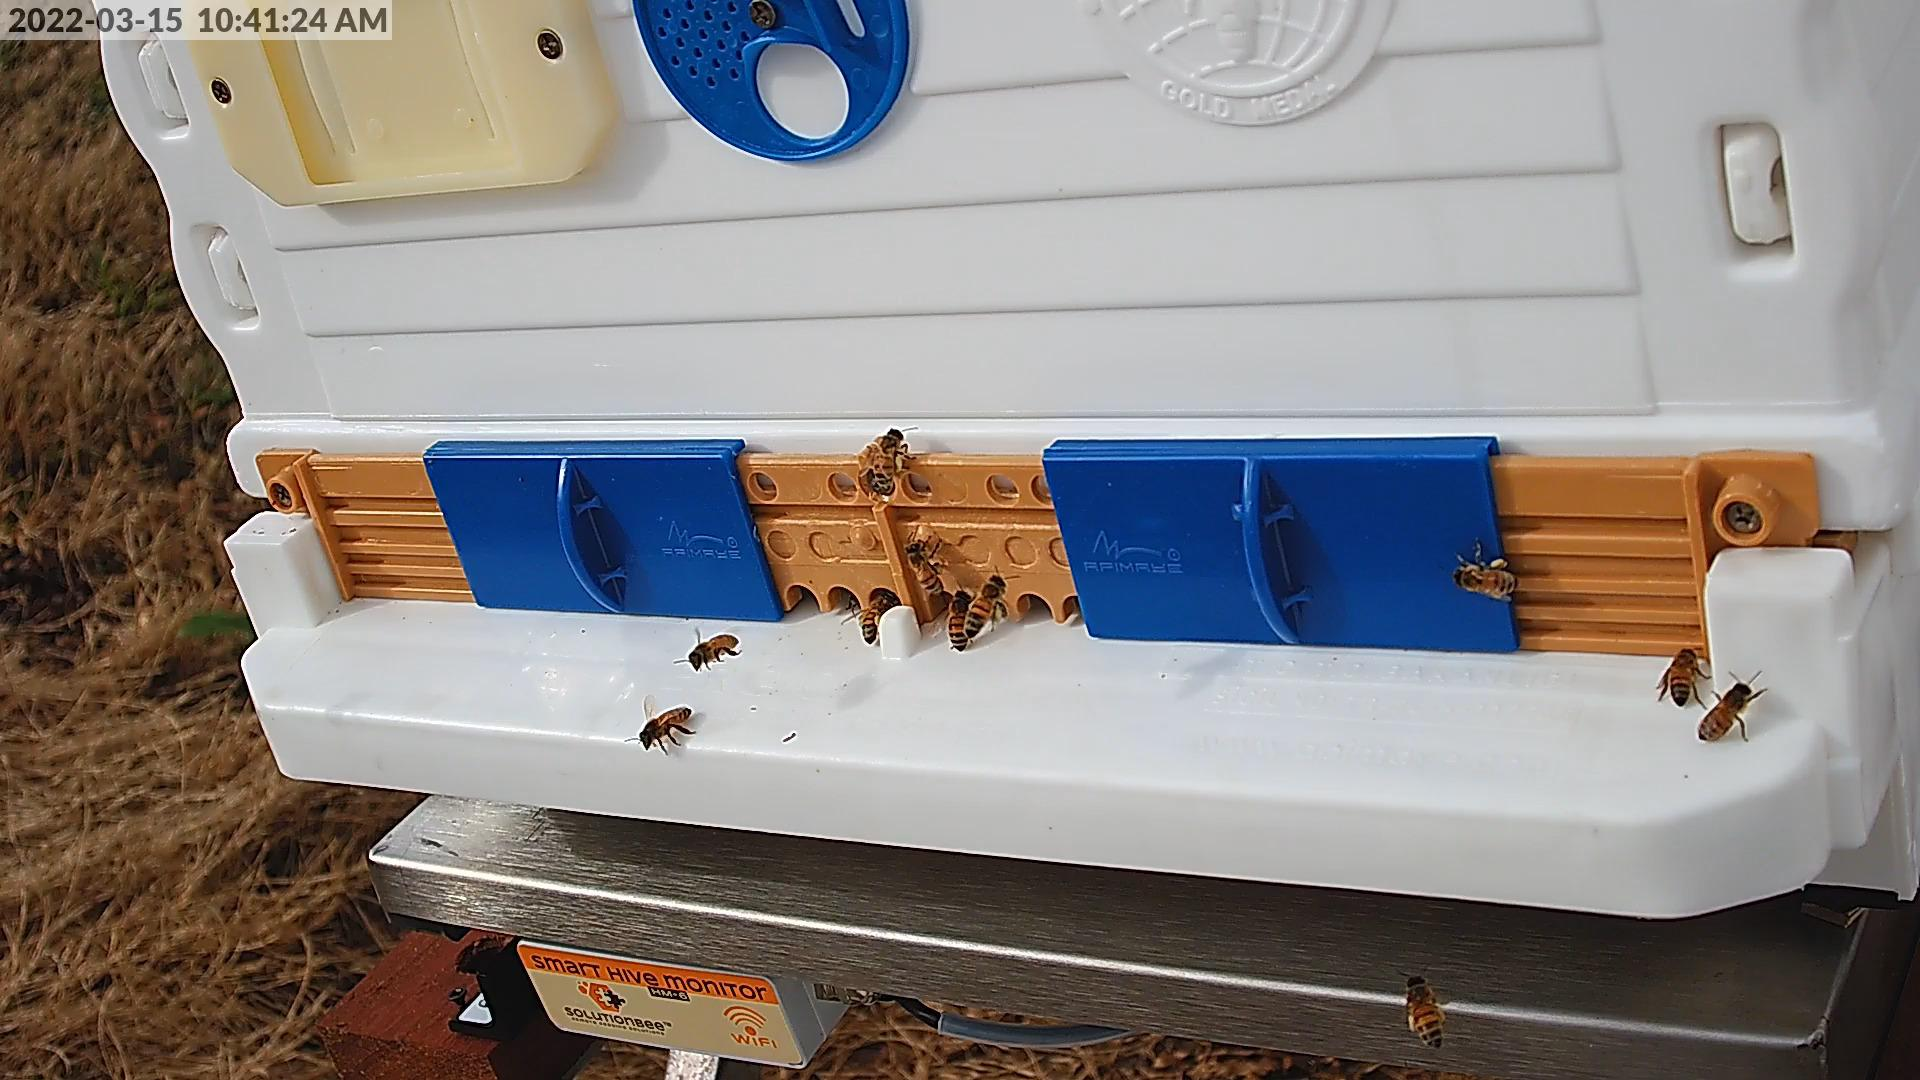bee: (1698, 683, 1751, 738), (641, 704, 692, 750), (688, 632, 738, 670), (906, 545, 944, 593), (874, 430, 902, 488), (862, 591, 894, 640), (947, 591, 972, 650), (1671, 650, 1696, 705)
pollenbee: (1404, 977, 1445, 1048), (968, 575, 1005, 638), (1456, 559, 1519, 593)
